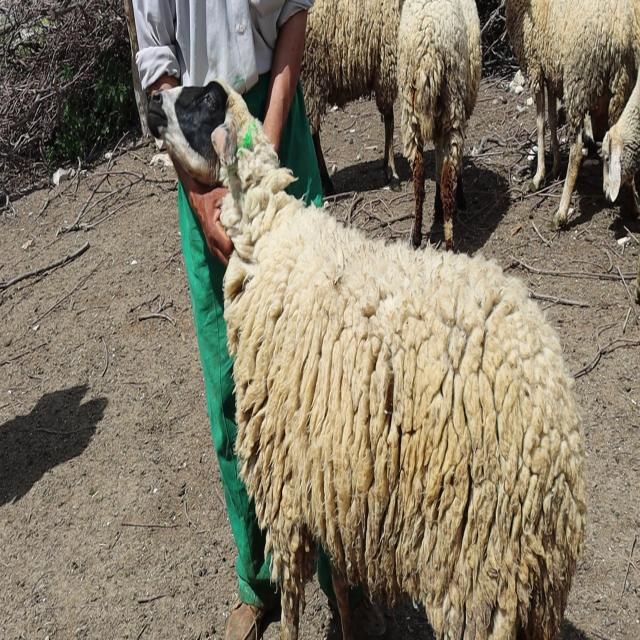Score_2: (147, 81, 586, 639)
